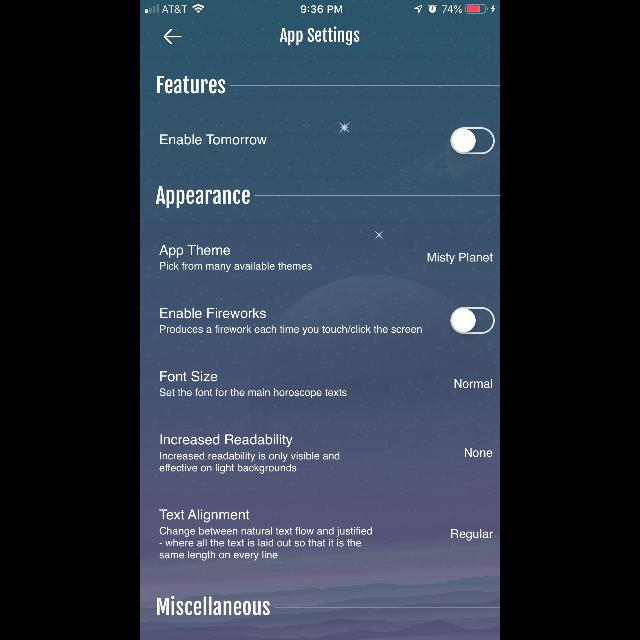backgroundimage: (140, 1, 500, 640)
icon: (164, 29, 182, 45)
switch: (450, 128, 494, 154), (451, 308, 495, 334)
text: (160, 527, 372, 561), (159, 452, 339, 474), (156, 595, 270, 615), (160, 325, 422, 333), (156, 187, 250, 209), (160, 388, 346, 398), (160, 434, 292, 448), (160, 262, 312, 272), (280, 27, 360, 46), (161, 134, 267, 146), (159, 509, 249, 523), (157, 76, 225, 94), (160, 308, 266, 318), (160, 245, 230, 258), (428, 253, 492, 265), (160, 371, 218, 382), (451, 529, 493, 541), (454, 378, 492, 388), (465, 448, 493, 458)
uppertaskbar: (140, 0, 500, 14)
